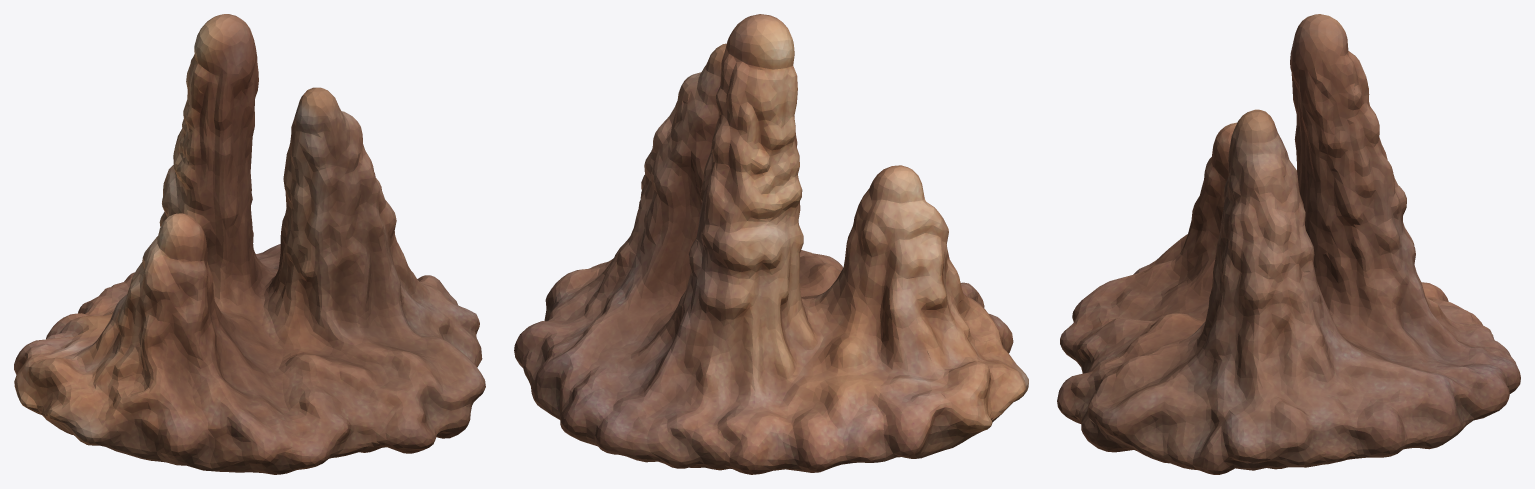
The picture shows the model from 3 angles, left to right: view 1: azimuth 30°, elevation 25°; view 2: azimuth 150°, elevation 25°; view 3: azimuth 270°, elevation 25°; orthographic projection. The views are drawn at different scales.
Parts seen in each view (by area): view 1: world; view 2: world; view 3: world.
Part boxes in pixels (x1=…): world: x1=14, y1=14, x2=485, y2=474; world: x1=514, y1=14, x2=1028, y2=474; world: x1=1057, y1=14, x2=1520, y2=474.
Bounding box in the file's own units: 1.9 × 1.6 × 1.78.
1 material, 1 textured.
